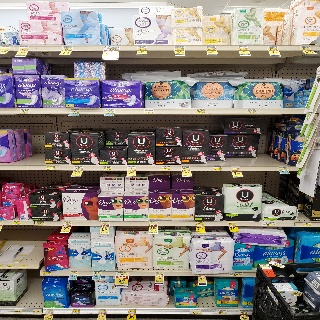All PRICE TAGS: (189, 309, 201, 315), (116, 271, 129, 276), (104, 46, 120, 50), (216, 310, 228, 315), (0, 45, 10, 51), (262, 222, 276, 226), (195, 109, 206, 114), (230, 272, 243, 276), (154, 271, 164, 276), (301, 45, 311, 50), (20, 108, 30, 113), (247, 109, 257, 114), (44, 309, 53, 314), (12, 220, 21, 225), (19, 46, 30, 50), (62, 46, 73, 50), (137, 46, 148, 50), (128, 309, 136, 314), (98, 309, 106, 314), (292, 292, 302, 296), (260, 264, 270, 268), (174, 46, 184, 50), (206, 46, 216, 50), (238, 46, 248, 50), (268, 46, 278, 50), (144, 109, 154, 113), (46, 166, 56, 170), (74, 166, 84, 170), (161, 166, 171, 170), (278, 166, 288, 170), (35, 221, 45, 225), (302, 222, 312, 226), (196, 274, 208, 277), (93, 271, 102, 275), (71, 109, 80, 113), (105, 109, 114, 113), (103, 166, 112, 170), (128, 166, 137, 170), (181, 166, 190, 170), (213, 166, 222, 170), (231, 166, 240, 170), (101, 221, 110, 225), (148, 221, 157, 225), (196, 221, 205, 225), (228, 222, 237, 226), (69, 271, 78, 275), (72, 309, 79, 314), (240, 310, 248, 314), (64, 221, 72, 225), (42, 271, 49, 275)
